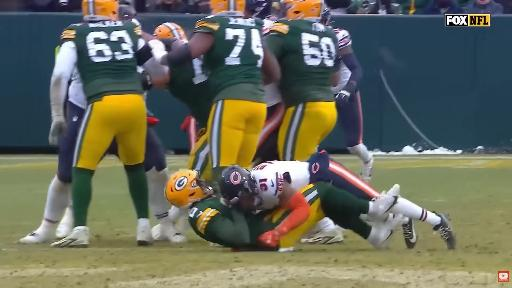Helmet: (218, 165, 259, 210), (165, 170, 212, 207), (281, 0, 324, 21), (82, 0, 119, 21), (210, 0, 245, 17), (154, 23, 187, 41), (246, 0, 271, 19), (119, 3, 136, 21), (321, 6, 331, 25)
Jersey: (62, 21, 142, 103), (266, 20, 338, 106), (195, 16, 263, 101), (167, 59, 214, 126), (251, 161, 309, 210), (188, 197, 237, 247), (68, 69, 87, 109), (68, 70, 87, 109), (332, 62, 351, 94), (263, 19, 273, 34)
Player: (51, 0, 164, 247), (157, 0, 280, 179), (219, 166, 401, 248), (20, 70, 87, 243), (266, 0, 338, 160), (166, 171, 289, 248), (251, 152, 381, 208), (161, 58, 214, 179), (332, 28, 373, 182), (253, 83, 285, 165), (254, 83, 285, 166)
